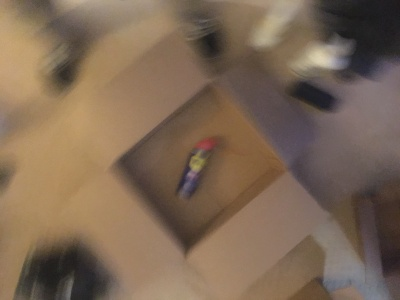innerbox: (136, 97, 253, 233)
outerbox: (97, 54, 289, 288)
product: (183, 144, 212, 198)
